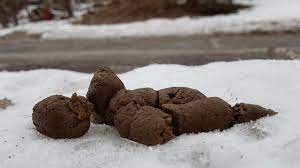Dog: (36, 65, 273, 138)
